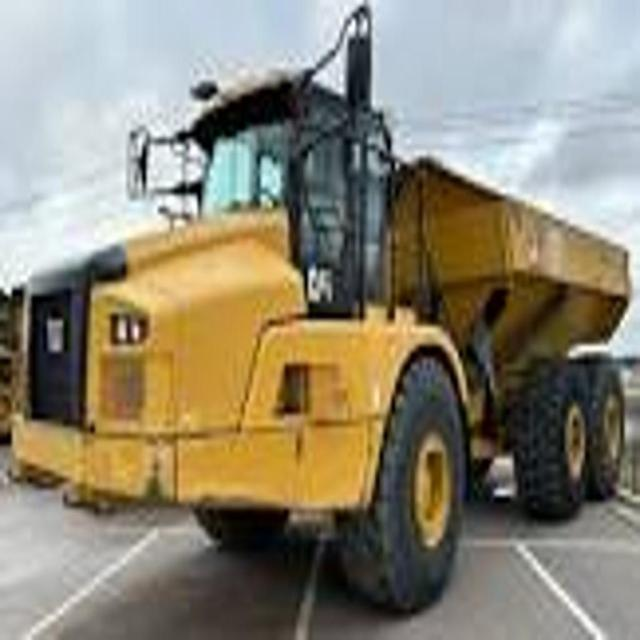dump_truck: (12, 4, 632, 612)
